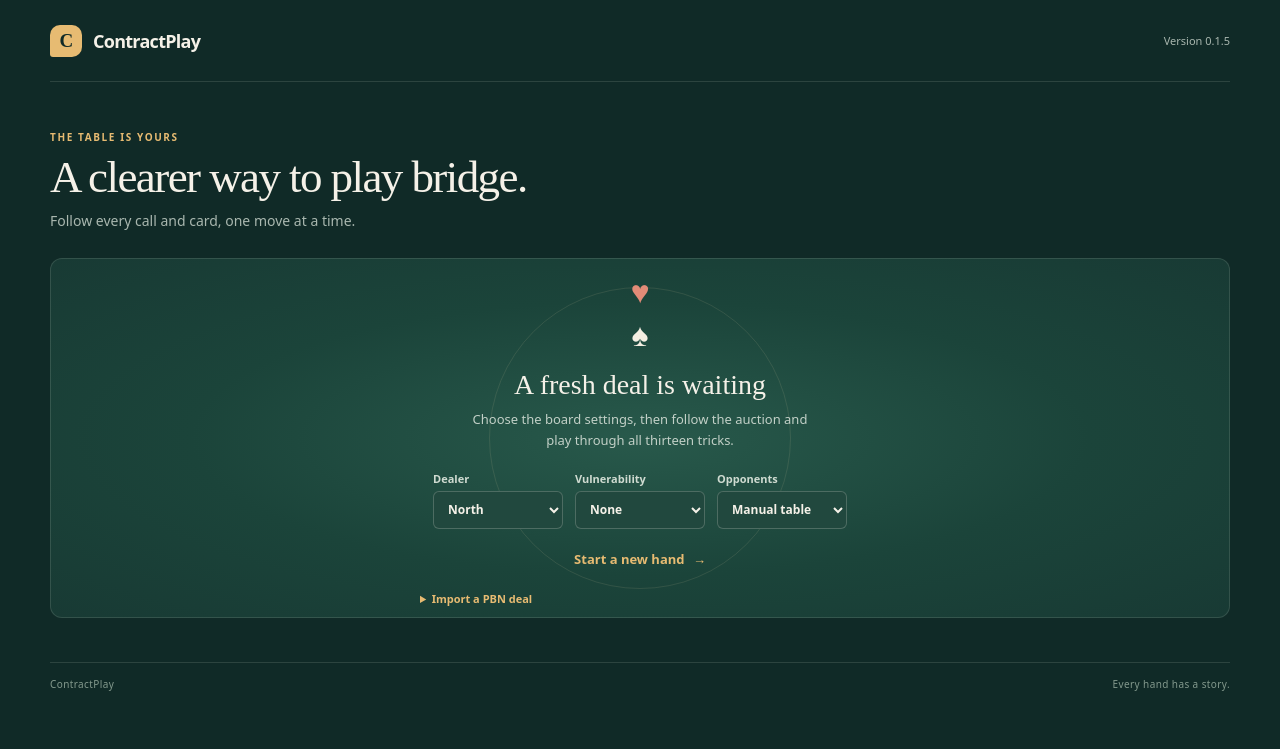
bridge table › disables bids that do not outrank the current contract
The width and height of the screenshot is (1280, 749).
What coordinates should you click on to do the following:
click the button "Start a new hand →"
I would click on:
 (640, 559)
Its box is [574,541,706,577].
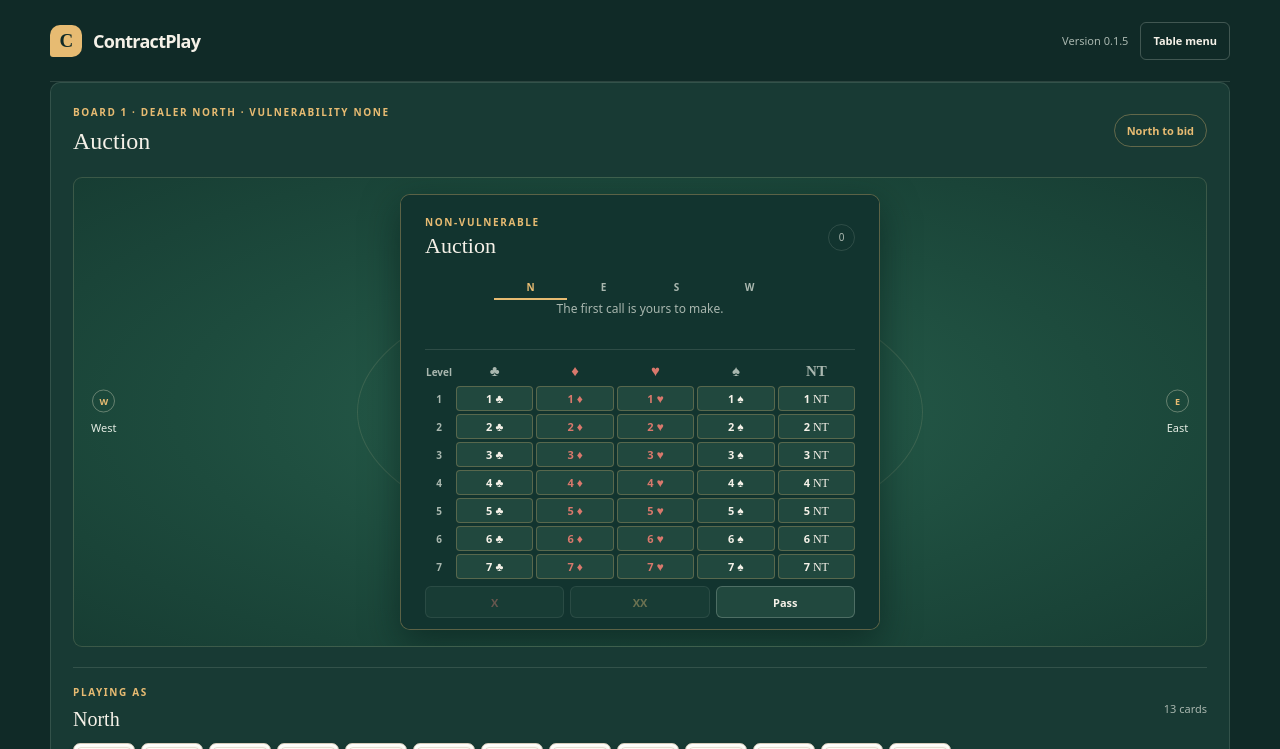
What coordinates should you click on to do the following:
click the button "1 ♥"
I would click on:
 (656, 398)
Its box is [617,386,694,411].
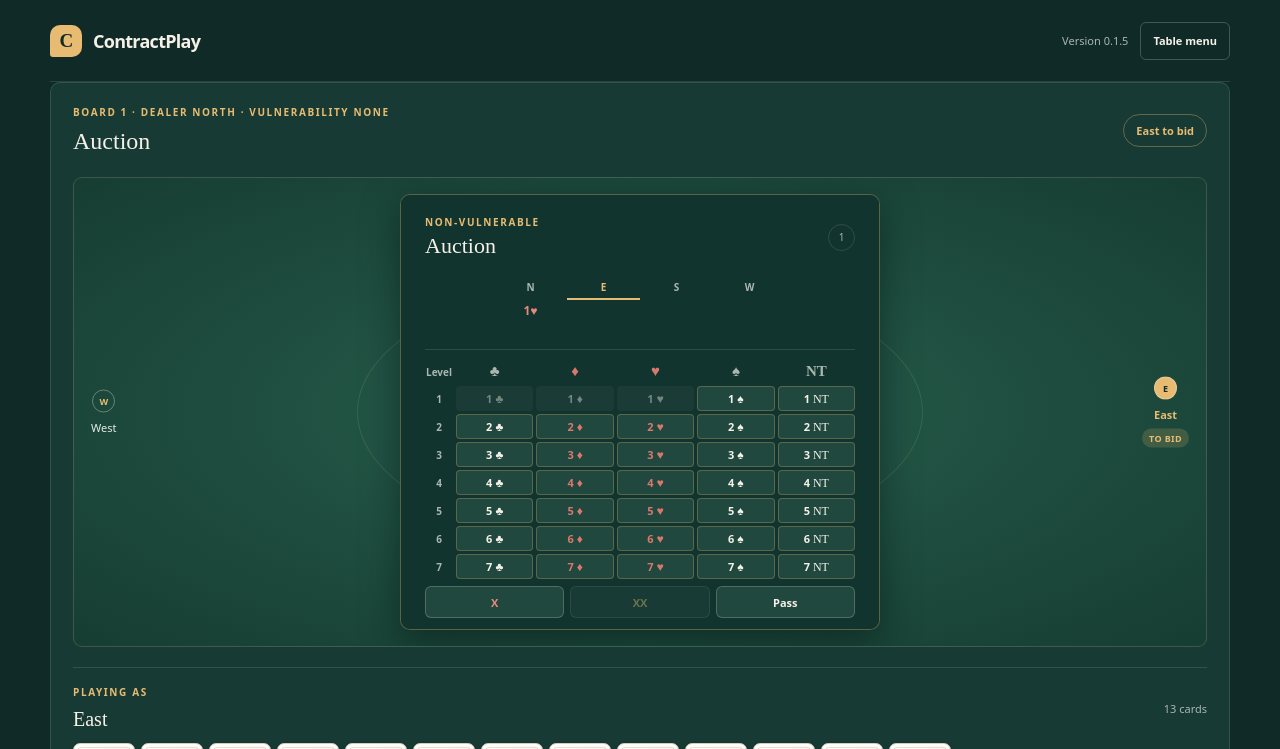
Expected: the button named "1 clubs" is disabled, [456,386,533,411]
Expected: the text "East to bid" is shown, [1123,114,1207,146]
